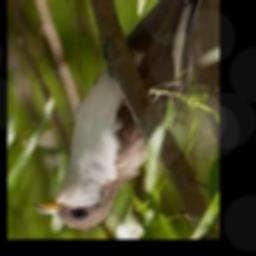Cuckoo: (33, 0, 220, 231)
